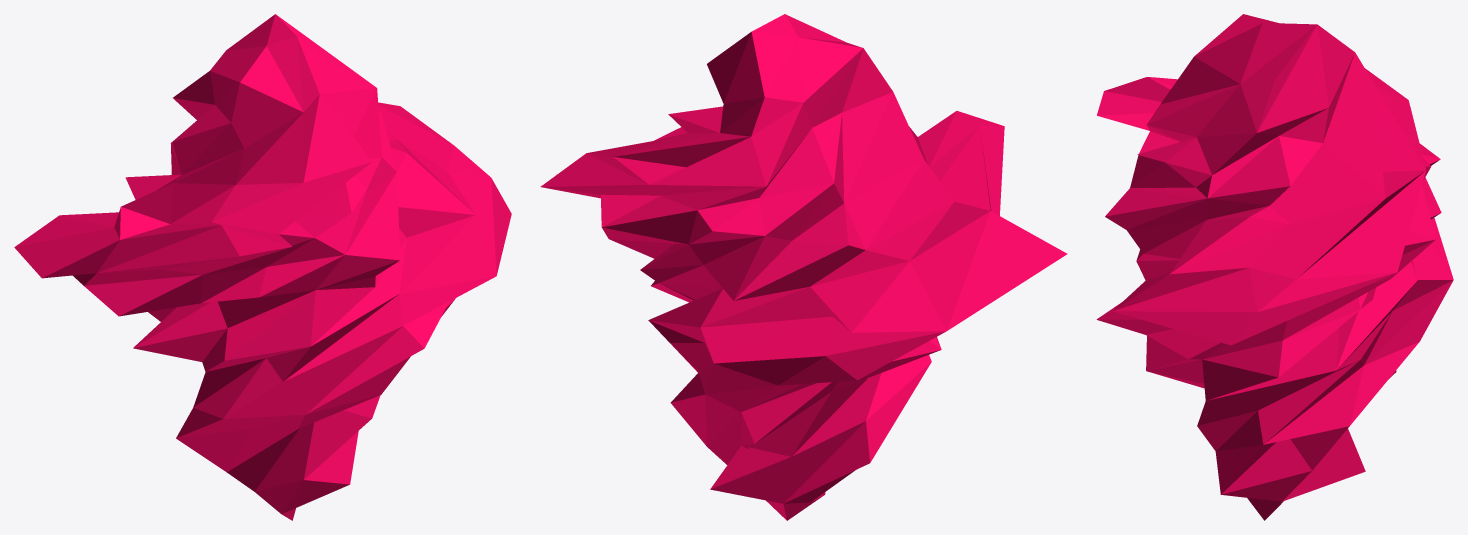
File: Crystal_019.fbx
3 renders of one model, left to right at view 1: azimuth 30°, elevation 25°; view 2: azimuth 150°, elevation 25°; view 3: azimuth 270°, elevation 25°, orthographic. The views are drawn at different scales.
Parts seen in each view (by area): view 1: Crystal.019; view 2: Crystal.019; view 3: Crystal.019.
Boxes of the visible parts, x1=… form: Crystal.019: x1=14, y1=14, x2=511, y2=520; Crystal.019: x1=540, y1=14, x2=1067, y2=520; Crystal.019: x1=1096, y1=14, x2=1453, y2=520.
Size of the model in its own units: 441 by 443 by 287.
